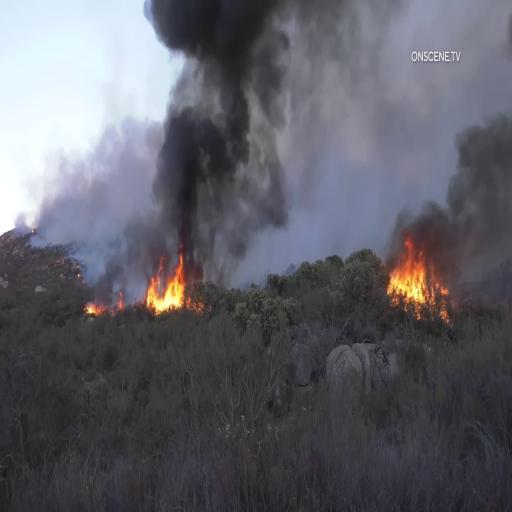fire: (386, 224, 446, 336), (146, 259, 189, 330)
smoke: (154, 0, 243, 253), (430, 101, 512, 224)
